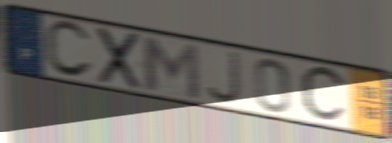0: (253, 57, 293, 115)
C: (42, 19, 95, 81), (298, 64, 349, 126)
J: (202, 49, 242, 106)
M: (139, 33, 203, 102)
X: (96, 25, 143, 93)
